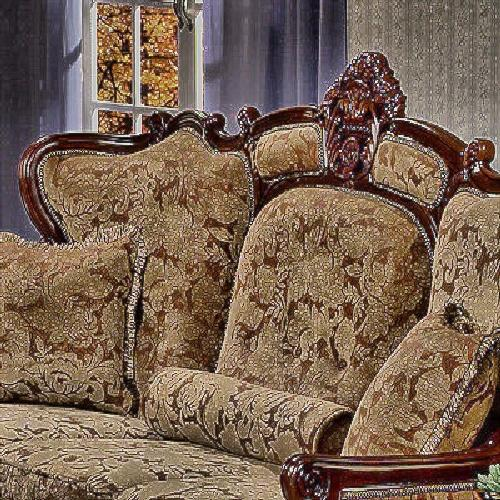sofa: (49, 108, 479, 464)
